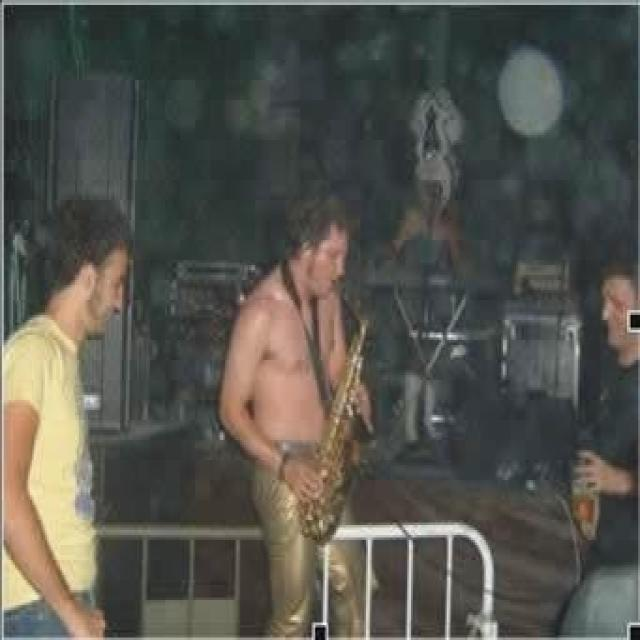saxophone: (294, 278, 376, 548)
violin: (357, 238, 518, 476)
